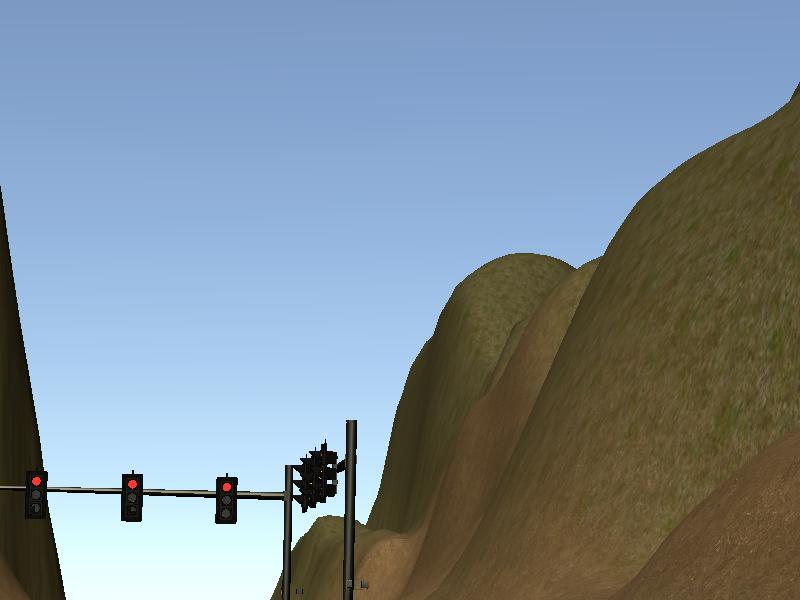red: (22, 469, 52, 520), (117, 471, 147, 522), (211, 473, 241, 524)
